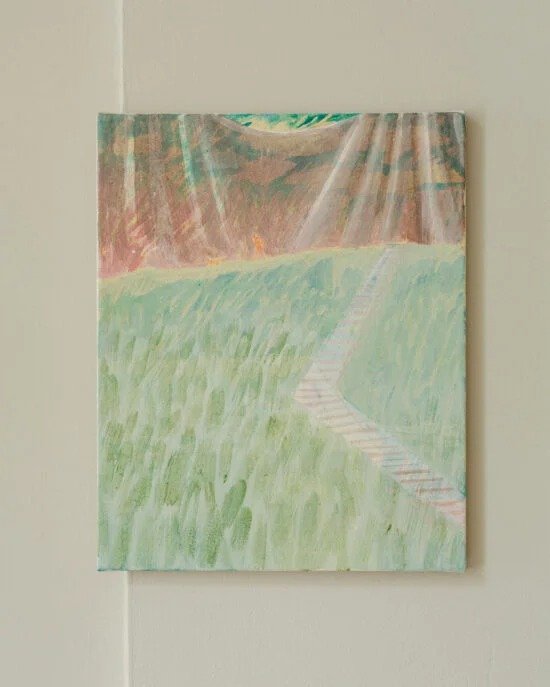painting: (97, 112, 467, 573)
